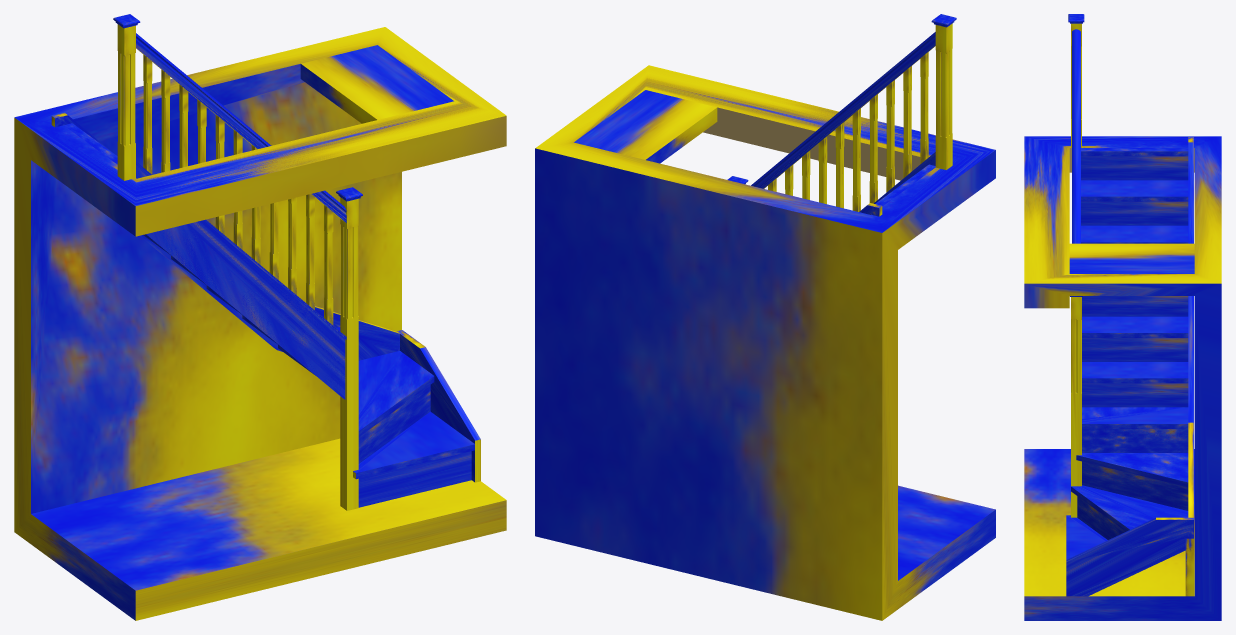
3 views of the same model, side by side, from view 1: azimuth 30°, elevation 25°; view 2: azimuth 150°, elevation 25°; view 3: azimuth 270°, elevation 25° (orthographic). The views are drawn at different scales.
Visible parts, largest first — view 1: pMesh1; view 2: pMesh1; view 3: pMesh1.
Boxes of the visible parts, x1=… form: pMesh1: x1=14, y1=14, x2=506, y2=620; pMesh1: x1=535, y1=14, x2=995, y2=620; pMesh1: x1=1024, y1=14, x2=1221, y2=620.
Size of the model in its own units: 1.36 by 2 by 0.7686.
